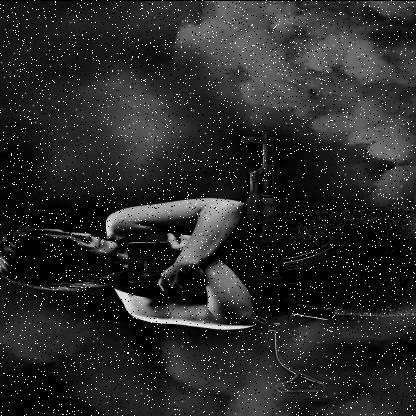rifle: (240, 117, 380, 337)
